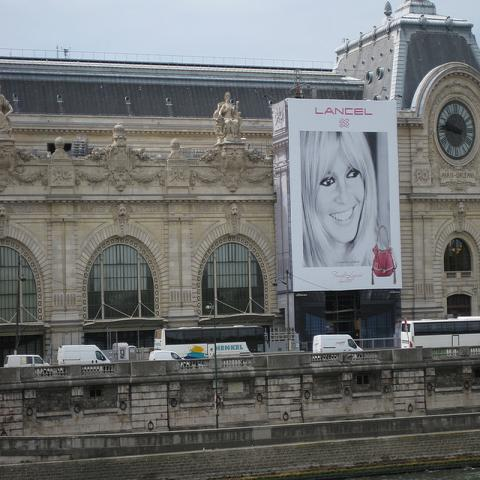bus: (154, 324, 265, 359), (400, 315, 480, 348)
car: (313, 334, 364, 354), (91, 346, 113, 366)
truck: (57, 345, 112, 366), (312, 333, 364, 355), (3, 355, 51, 367), (148, 350, 186, 361)
